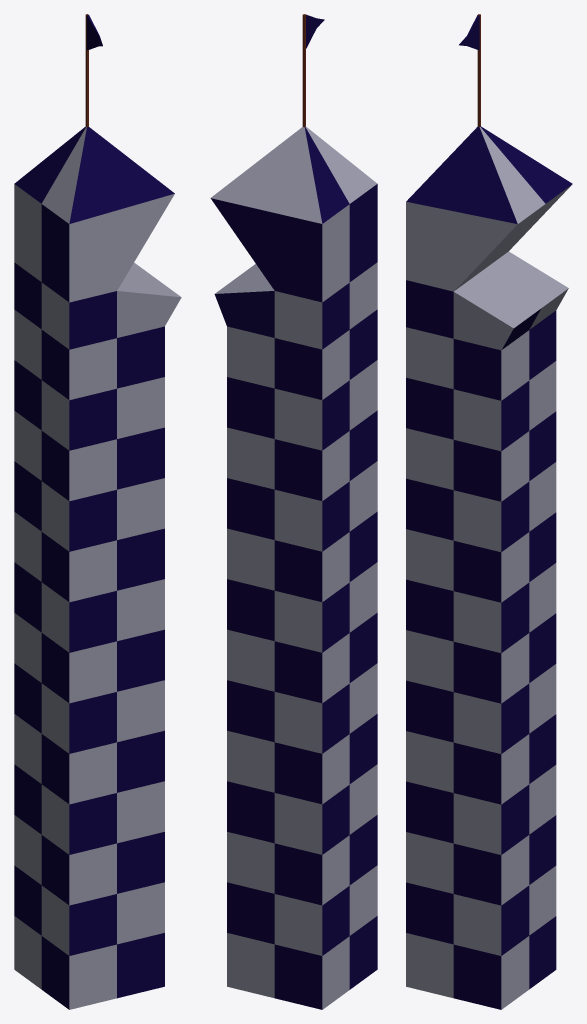
The model's file is stadiumtower3.fbx.
3 renders of one model, left to right at view 1: azimuth 30°, elevation 25°; view 2: azimuth 150°, elevation 25°; view 3: azimuth 330°, elevation 25°, orthographic.
Parts seen in each view (by area): view 1: Cube.001; view 2: Cube.001; view 3: Cube.001.
Boxes of the visible parts, box(x1,y1,x2,y2) form: Cube.001: box(14, 14, 181, 1009); Cube.001: box(210, 14, 377, 1009); Cube.001: box(406, 14, 572, 1009).
Bounding box in the file's own units: 275 × 2298 × 261.
